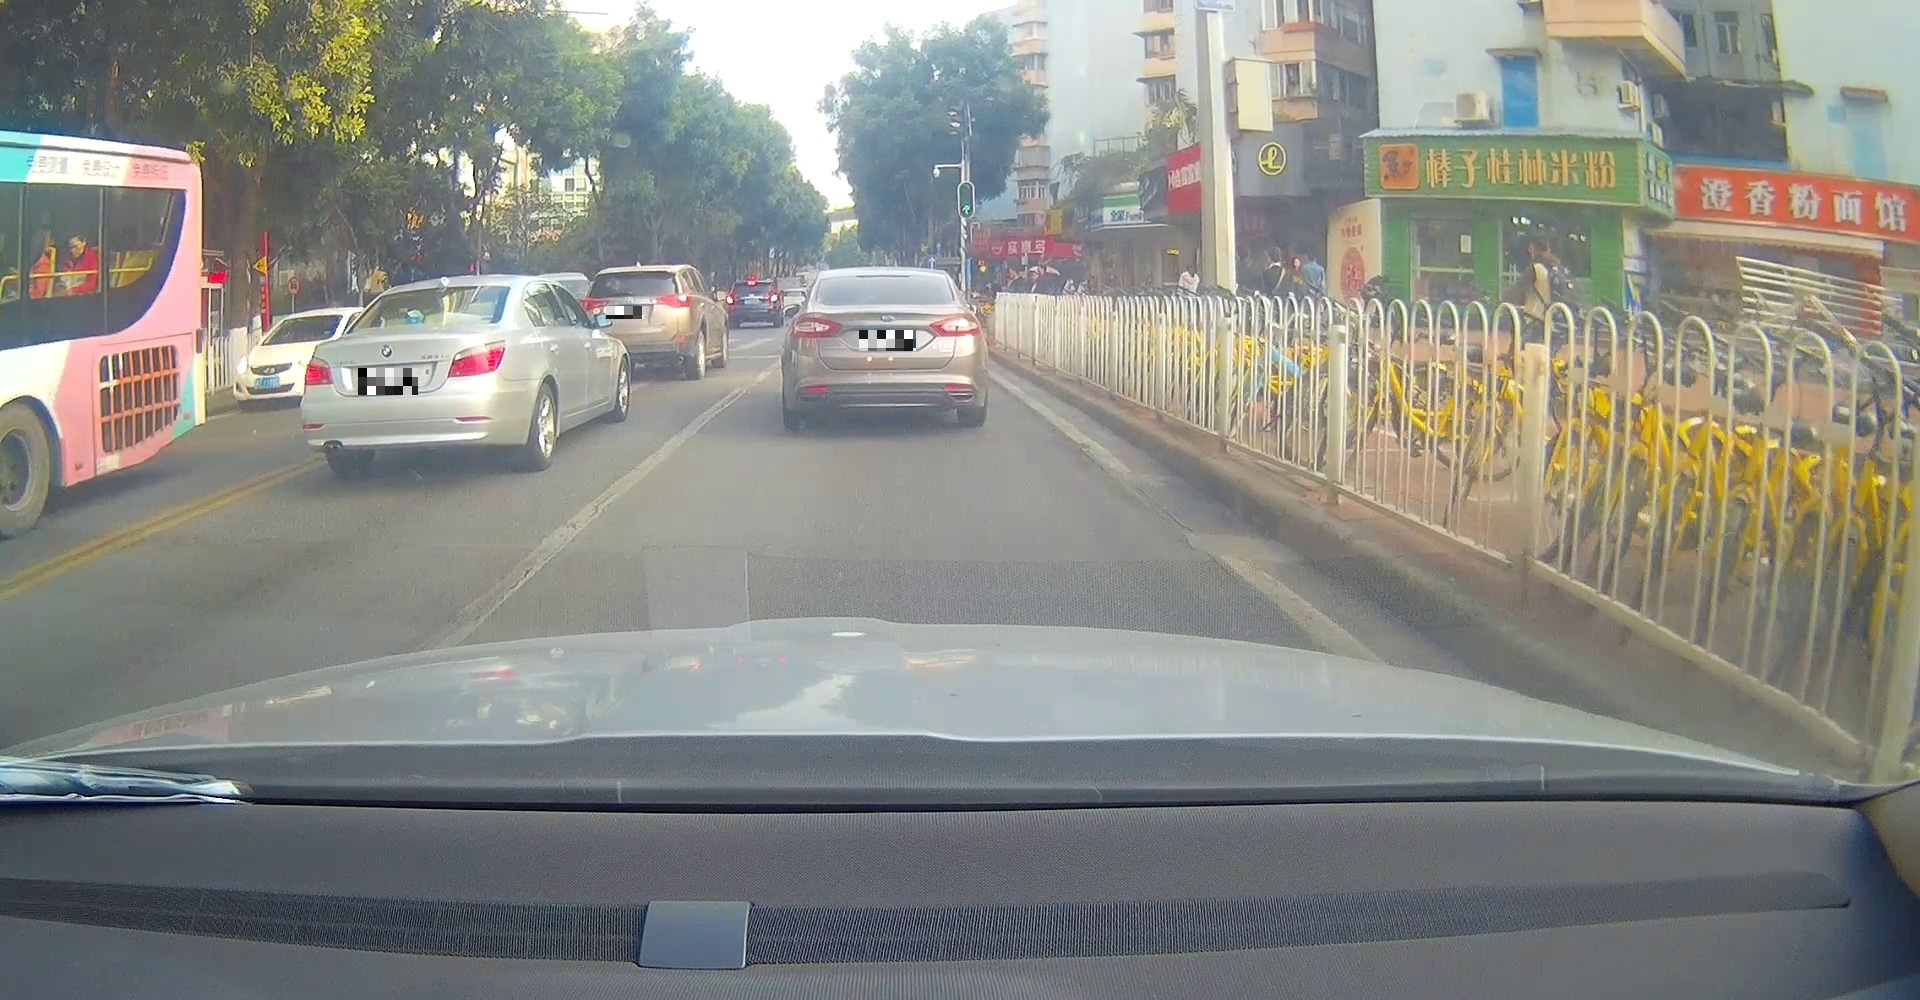L_light: (789, 317, 843, 339), (303, 357, 334, 386), (580, 297, 610, 312), (724, 294, 737, 307)
R_light: (446, 338, 508, 378), (928, 313, 982, 338), (650, 292, 693, 308), (768, 292, 778, 305)
T_light: (858, 273, 909, 279), (429, 286, 456, 294), (623, 270, 648, 274), (745, 280, 758, 286)
day-brake: (723, 279, 781, 327)
day-no: (298, 275, 516, 478), (782, 266, 987, 426)
day-right: (579, 266, 698, 382)
plate_1: (358, 368, 418, 395)
plate_2: (606, 306, 644, 319)
plate_3: (858, 330, 916, 352)
